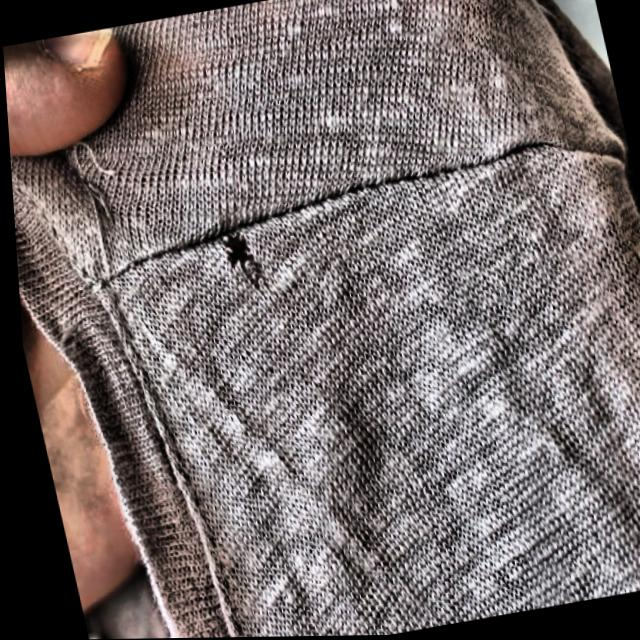Hole: (207, 220, 285, 300)
